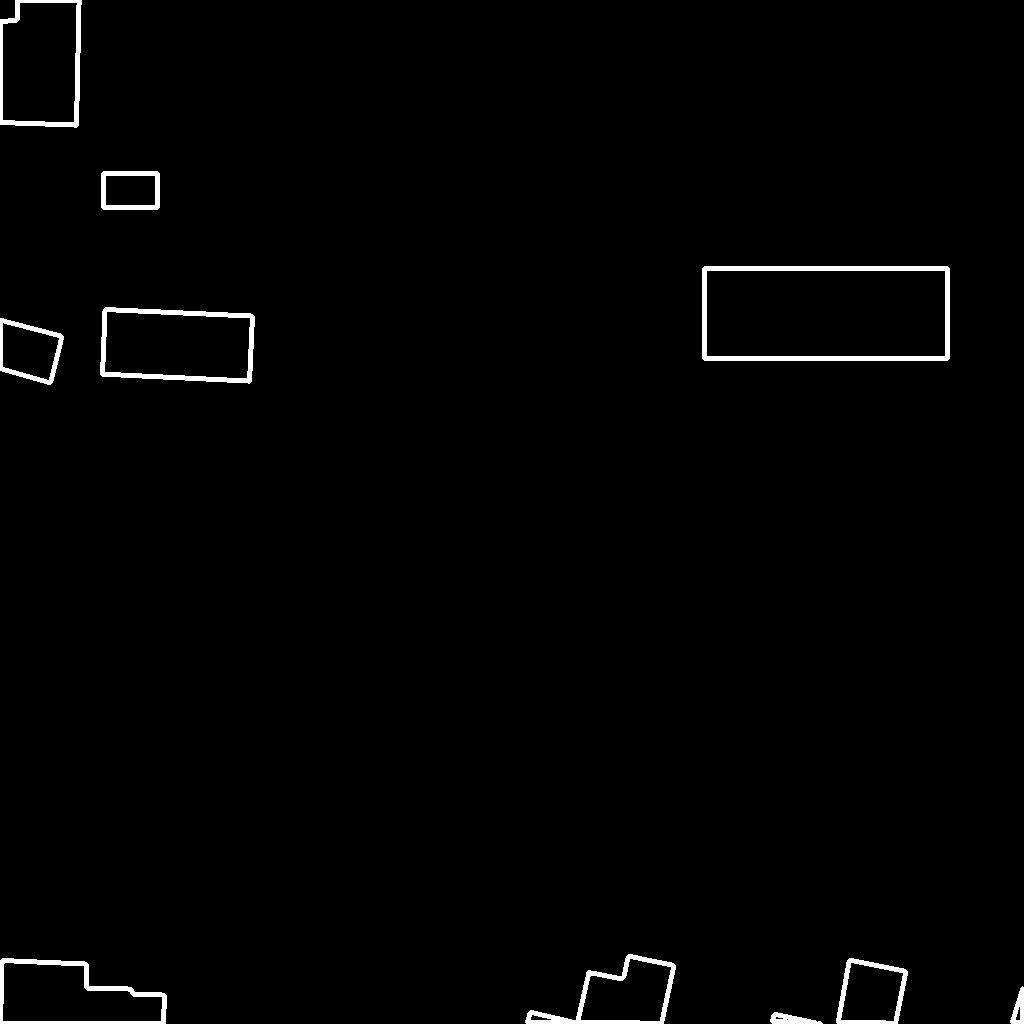building: (704, 268, 949, 359), (102, 309, 254, 382), (0, 960, 166, 1024), (0, 0, 80, 126), (527, 956, 675, 1024), (772, 960, 907, 1024), (0, 320, 63, 384), (103, 173, 159, 208), (1012, 987, 1024, 1024)
